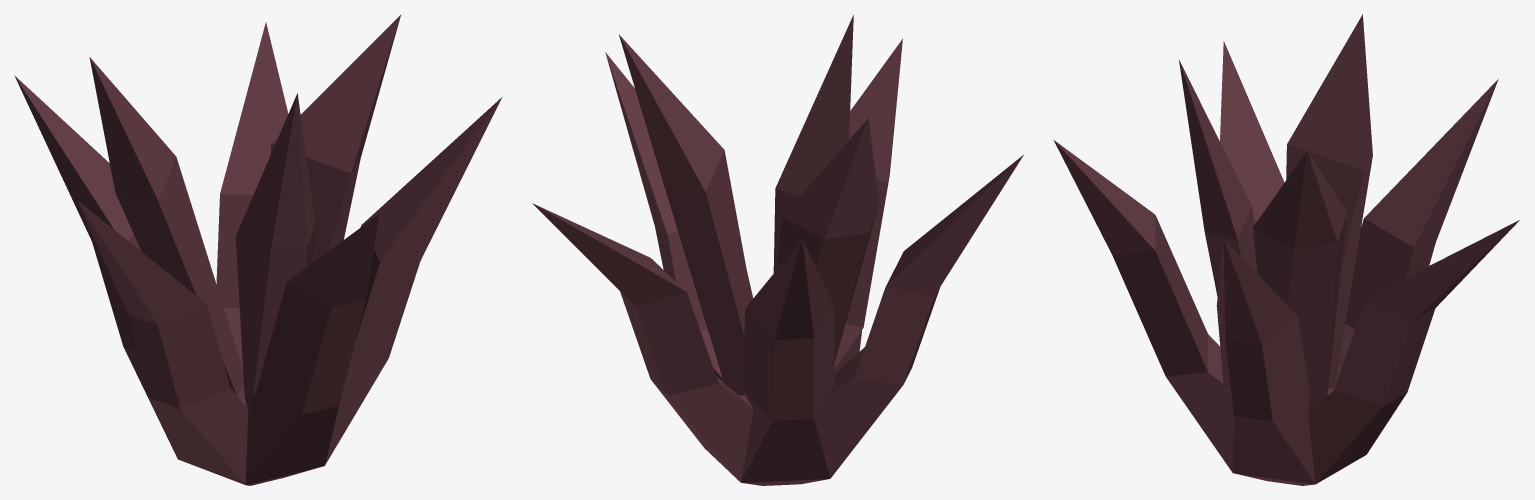
File: nature-aloe-vera.glb
3 renders of one model, left to right at view 1: azimuth 30°, elevation 25°; view 2: azimuth 150°, elevation 25°; view 3: azimuth 270°, elevation 25°, orthographic. The views are drawn at different scales.
Visible parts, largest first — view 1: aloe-vera; view 2: aloe-vera; view 3: aloe-vera.
Boxes of the visible parts, <box> form: aloe-vera: <box>14,15,502,485</box>; aloe-vera: <box>532,15,1023,485</box>; aloe-vera: <box>1053,14,1519,485</box>.
Size of the model in its own units: 0.3738 by 0.3585 by 0.3731.
